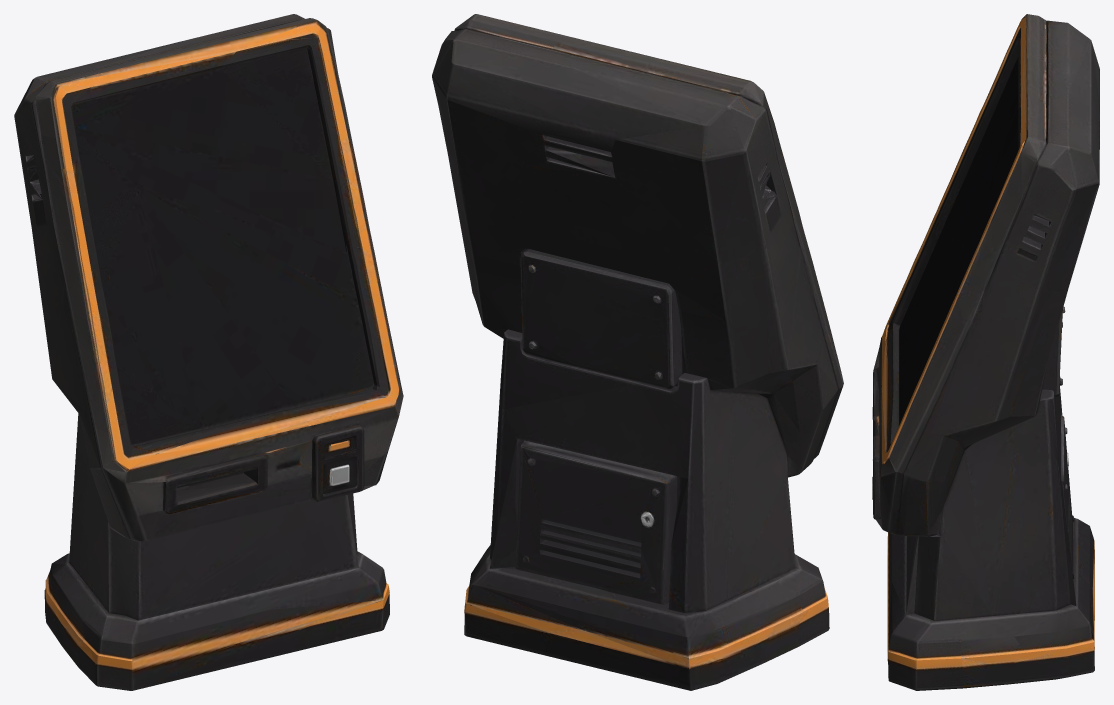
The model's file is terminal.glb.
3 views of the same model, side by side, from view 1: azimuth 30°, elevation 25°; view 2: azimuth 150°, elevation 25°; view 3: azimuth 270°, elevation 25° (orthographic). The views are drawn at different scales.
Bounding box in the file's own units: 1.07 × 1.9 × 0.7189.
Materials: 1 (1 with a texture image).
